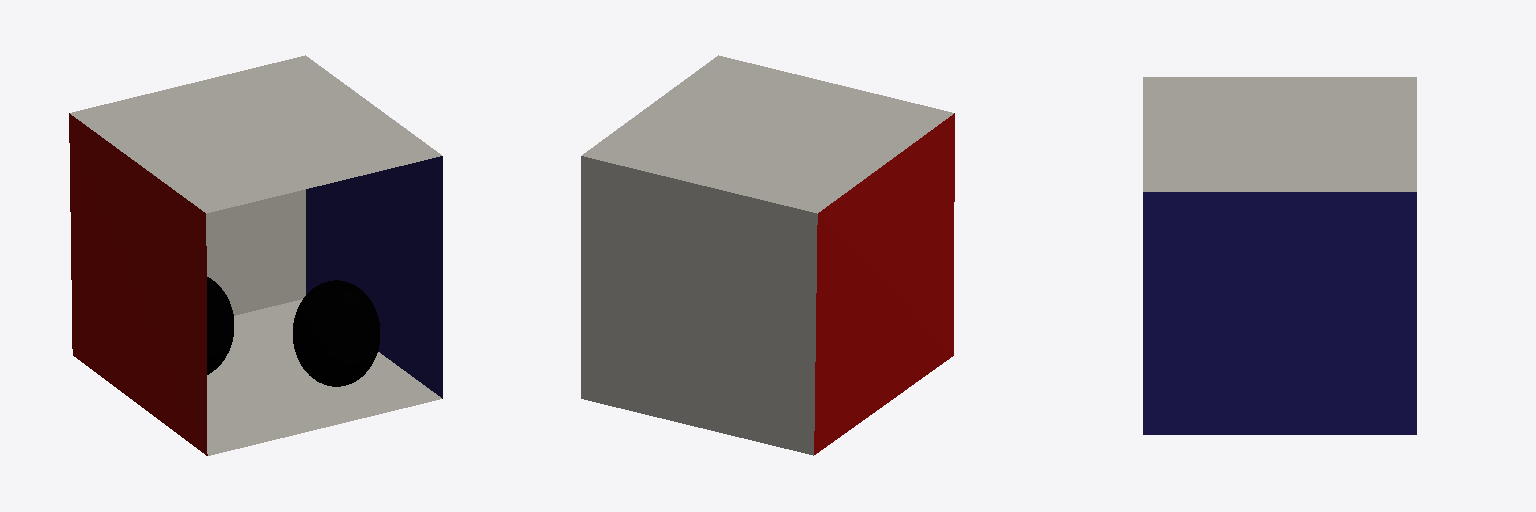
File: cboxs.obj
The picture shows the model from 3 angles: view 1: azimuth 30°, elevation 25°; view 2: azimuth 150°, elevation 25°; view 3: azimuth 270°, elevation 25°; orthographic projection.
Parts seen in each view (by area): view 1: CornellBox-Sphere; view 2: CornellBox-Sphere; view 3: CornellBox-Sphere.
Part boxes in pixels (x1,y1,x2,y2): CornellBox-Sphere: (69, 55, 442, 455); CornellBox-Sphere: (581, 55, 954, 455); CornellBox-Sphere: (1143, 77, 1416, 434).
Bounding box in the file's own units: 2.02 × 1.98 × 2.03.